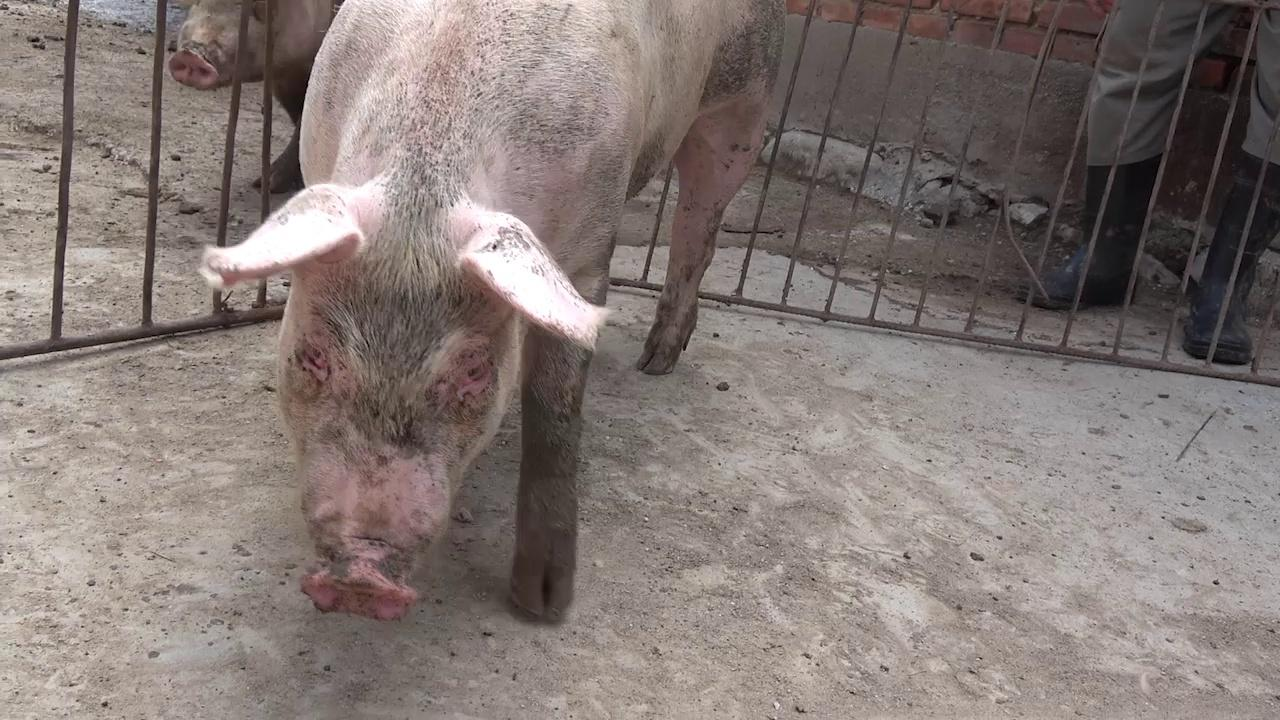Face: (197, 180, 613, 632)
